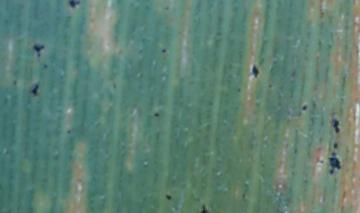tarspot: (326, 154, 343, 176), (31, 41, 47, 58), (329, 116, 343, 135), (29, 82, 41, 98), (250, 63, 261, 80), (163, 191, 175, 204), (300, 101, 311, 115), (150, 109, 164, 120), (198, 201, 210, 213), (67, 1, 82, 9), (331, 140, 340, 151), (158, 47, 169, 56)
